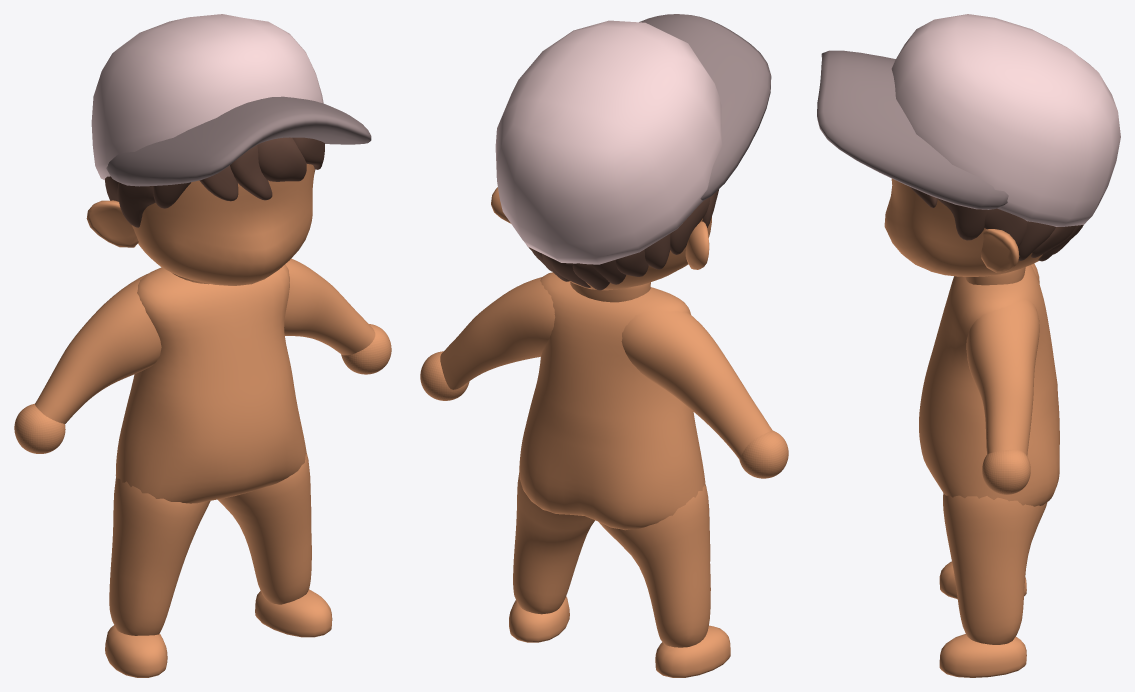
The model's file is player_v3.2.fbx.
3 renders of one model, left to right at view 1: azimuth 30°, elevation 25°; view 2: azimuth 150°, elevation 25°; view 3: azimuth 270°, elevation 25°, orthographic. The views are drawn at different scales.
Parts seen in each view (by area): view 1: Romp, Hat_Top, Legs, Head, Arms, Hat_Front, Feet, Hands, Hair_00, Ears, Hair_01, Hair_05 (+3 smaller); view 2: Hat_Top, Romp, Arms, Legs, Hat_Front, Feet, Hands, Ears, Head, Neck, Hair_08, Hair_09 (+2 smaller); view 3: Hat_Top, Romp, Hat_Front, Legs, Arms, Head, Feet, Hands, Ears, Hair_06, Hair_07, Hair_14 (+2 smaller).
Boxes of the visible parts, <box> form: Romp: <box>115,264,306,503</box>; Hat_Top: <box>91,14,323,180</box>; Legs: <box>109,451,311,635</box>; Head: <box>132,164,314,285</box>; Arms: <box>35,258,375,423</box>; Hat_Front: <box>106,96,371,186</box>; Feet: <box>105,589,332,677</box>; Hands: <box>14,324,391,453</box>; Hair_00: <box>257,137,306,181</box>; Ears: <box>86,200,138,247</box>; Hair_01: <box>230,145,272,200</box>; Hair_05: <box>117,182,155,227</box>; Hat_Top: <box>495,20,722,264</box>; Romp: <box>519,272,705,530</box>; Arms: <box>440,277,772,459</box>; Legs: <box>513,473,710,647</box>; Hat_Front: <box>639,14,771,200</box>; Feet: <box>509,596,730,677</box>; Hands: <box>420,351,788,478</box>; Ears: <box>491,187,709,269</box>; Head: <box>570,217,711,290</box>; Neck: <box>570,281,650,302</box>; Hair_08: <box>670,197,710,254</box>; Hair_09: <box>644,234,670,269</box>; Hat_Top: <box>891,14,1120,226</box>; Romp: <box>919,265,1059,506</box>; Hat_Front: <box>817,50,1008,209</box>; Legs: <box>943,493,1047,644</box>; Arms: <box>966,263,1039,456</box>; Head: <box>884,178,1042,276</box>; Feet: <box>939,561,1026,677</box>; Hands: <box>982,449,1030,494</box>; Ears: <box>981,229,1019,272</box>; Hair_06: <box>937,198,987,240</box>; Hair_07: <box>984,208,1027,246</box>; Hair_14: <box>1018,221,1055,260</box>.
Bounding box in the file's own units: 179 × 288 × 132.
